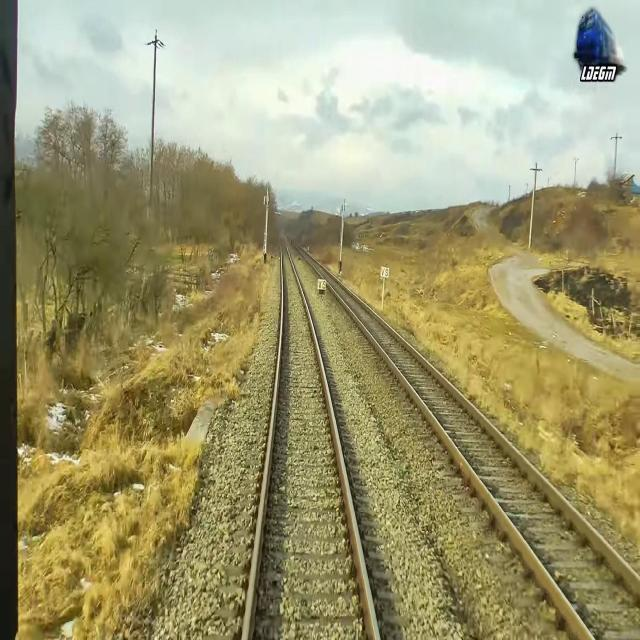rail-track: (295, 243, 640, 639), (247, 235, 375, 639)
